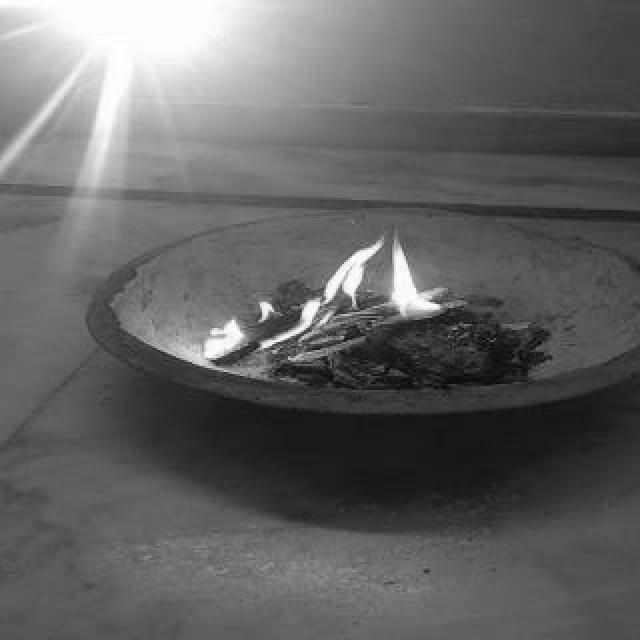Fire: (202, 226, 472, 364)
